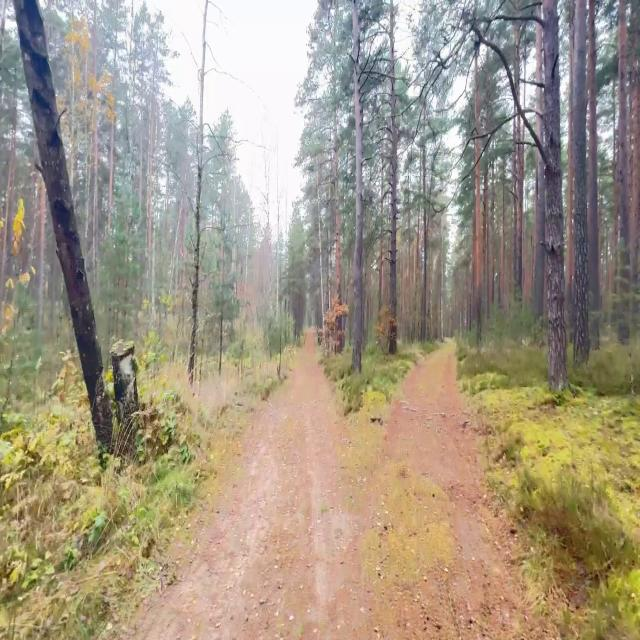trees: (13, 0, 112, 449), (542, 0, 567, 390), (188, 0, 208, 386), (572, 0, 589, 363), (587, 0, 600, 350), (352, 0, 363, 372), (146, 21, 159, 324), (328, 9, 341, 306), (618, 0, 630, 296), (90, 0, 100, 291), (389, 0, 397, 354), (378, 79, 387, 311), (474, 139, 483, 344), (534, 152, 545, 318), (514, 118, 523, 300), (482, 137, 491, 318), (420, 147, 428, 341), (316, 156, 324, 331), (37, 179, 46, 333), (218, 229, 224, 374), (439, 211, 445, 341), (501, 179, 506, 303), (276, 195, 279, 321)
